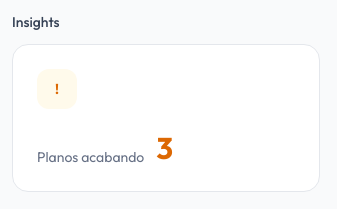
Test: InsightStrip › navega para o grid do insight ao clicar no card
Expected: the text "3" is shown, 156,129 -> 173,167
Click the button "! Planos acabando 3" at (57, 89), box 12,44 -> 320,192
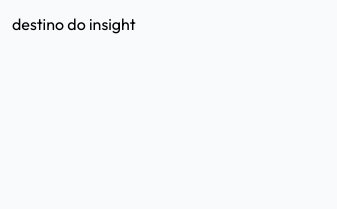
Expected: the text "destino do insight" is shown, 12,14 -> 136,34
